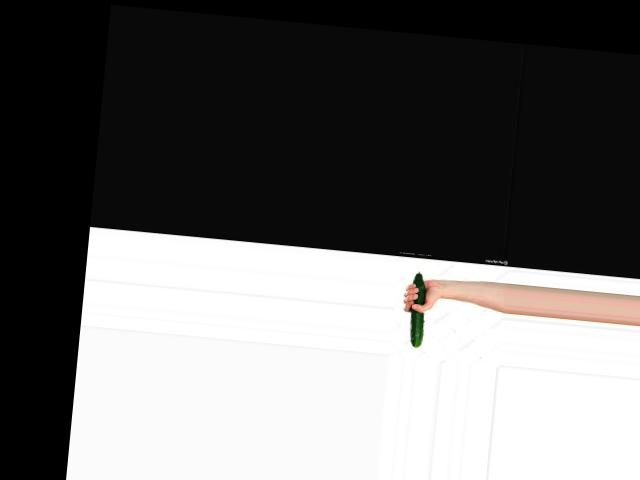cucumber: (406, 271, 428, 347)
